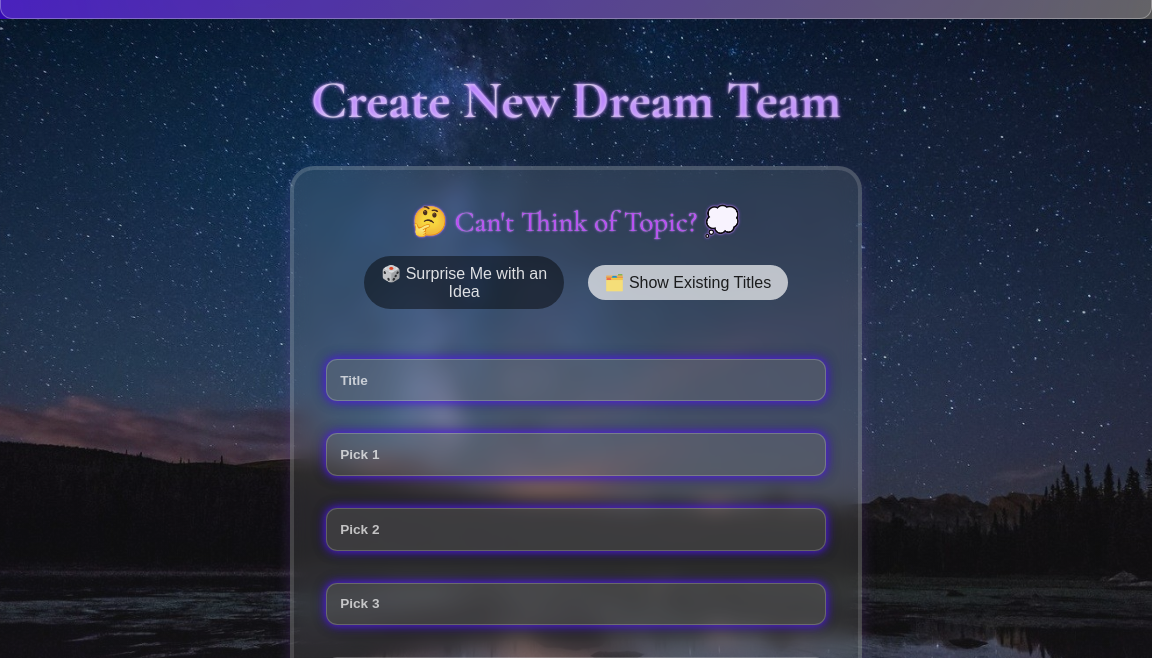
Test: CreateDream › shows error on blank pick(s)
The width and height of the screenshot is (1152, 658).
Type "Dream Title" into the field with placeholder "Title".
click(576, 380); type("Dream Title")  # box [326,359,826,401]
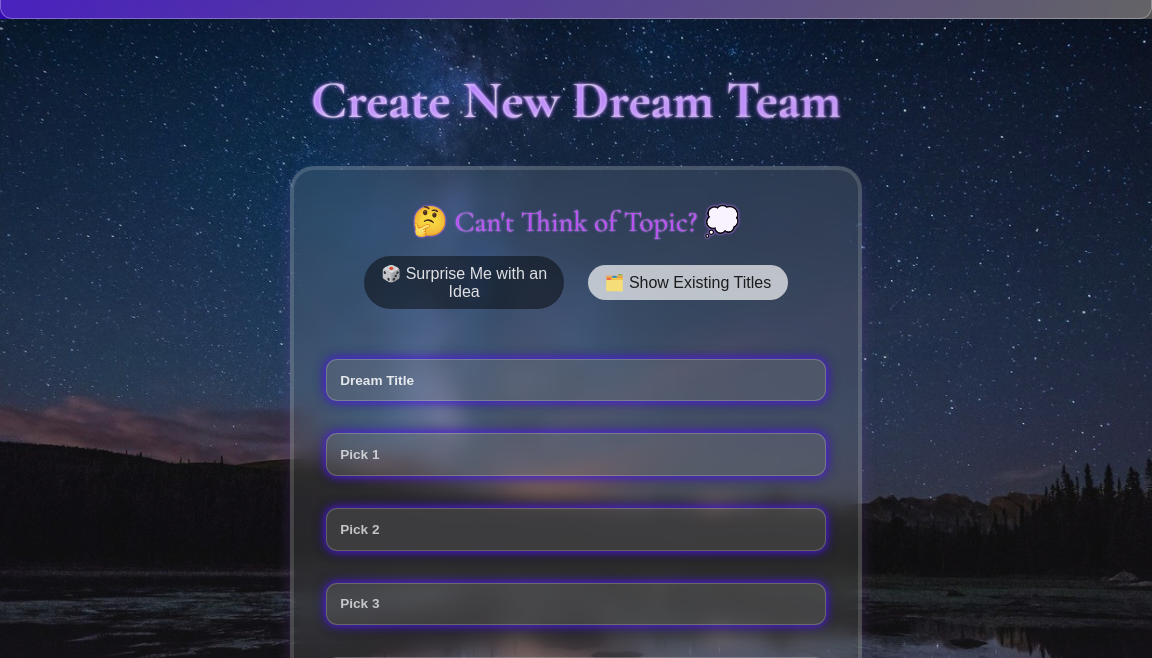
Type "pick 1" into the field with placeholder "Pick 1".
click(576, 455); type("pick 1")  # box [326,433,826,476]
(page scrolled)
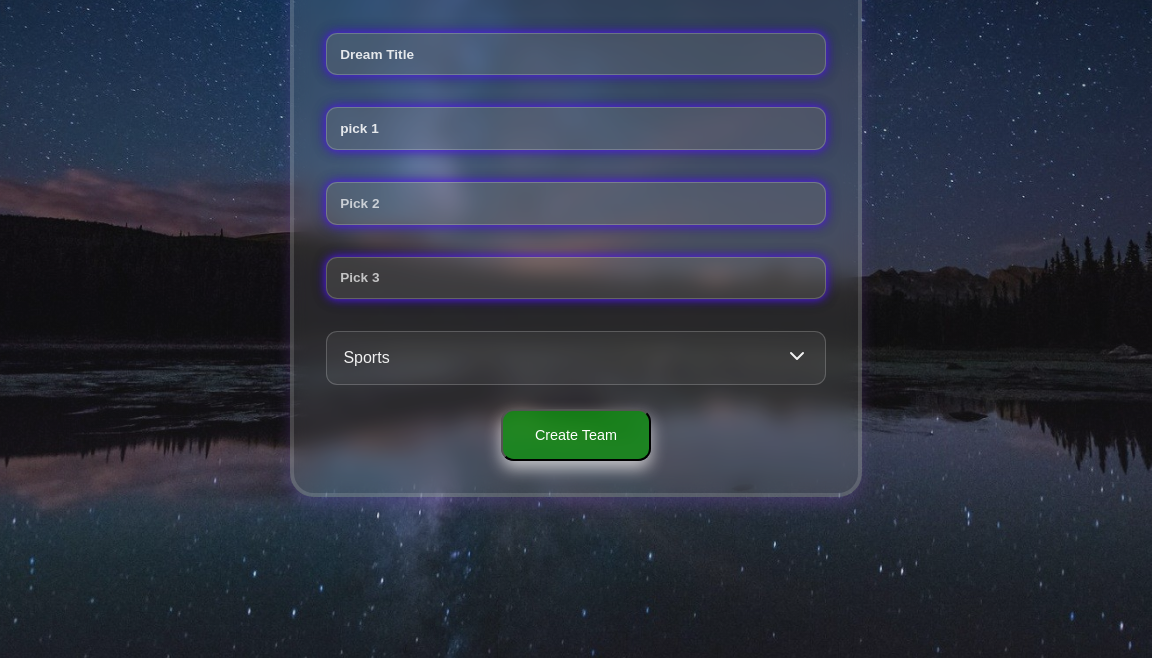
Click the button "Create Team".
click(576, 435)  # box [501,409,651,461]
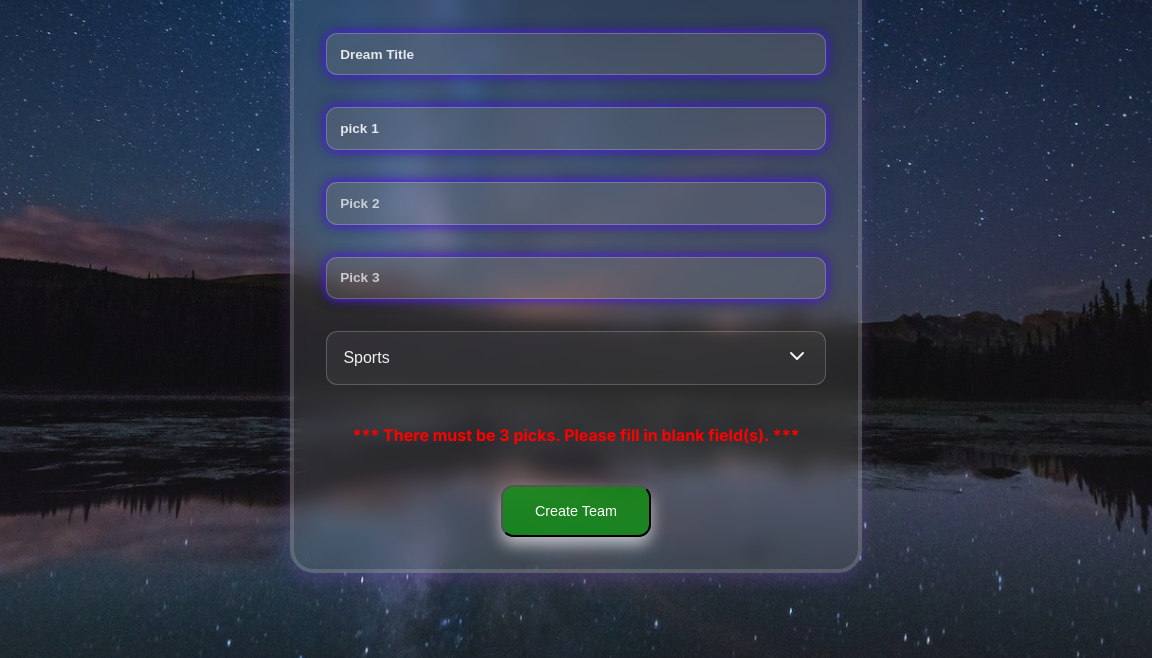
Now the text "There must be 3 picks. Please fill in blank field(s)" is shown, box [383,425,769,445]
